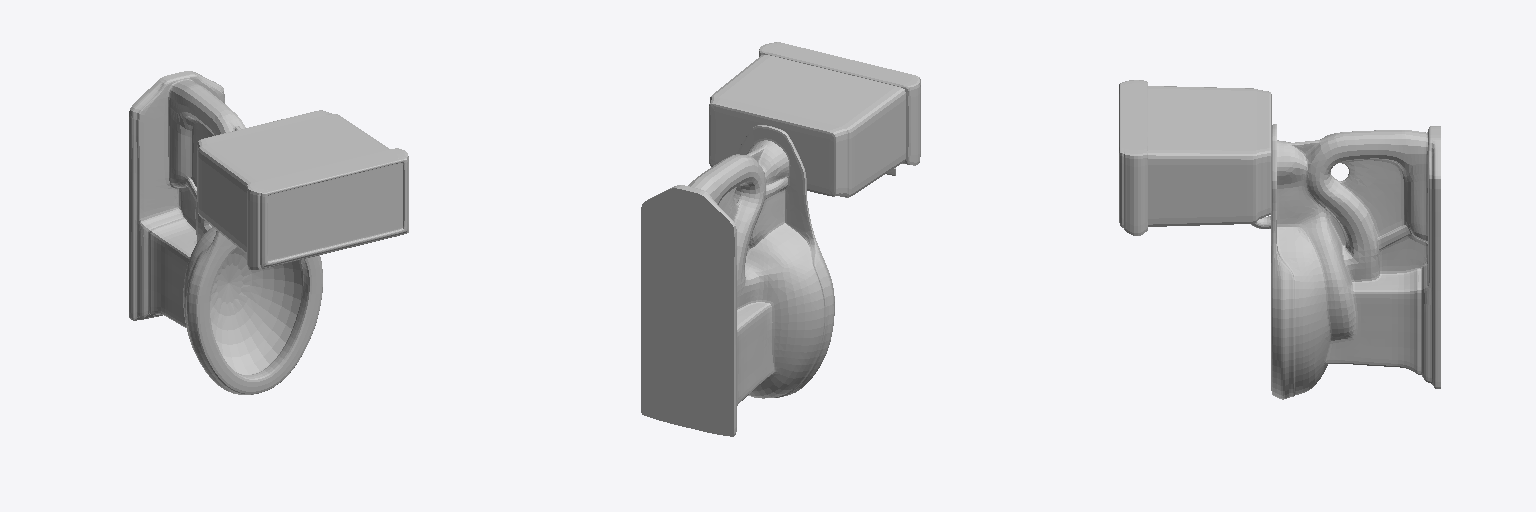
The model's file is Toilet_ornament.obj.
3 renders of one model, left to right at view 1: azimuth 30°, elevation 25°; view 2: azimuth 150°, elevation 25°; view 3: azimuth 270°, elevation 25°, orthographic.
Parts seen in each view (by area): view 1: <STL_BINARY>; view 2: <STL_BINARY>; view 3: <STL_BINARY>.
Boxes of the visible parts, box(x1,y1,x2,y2) form: <STL_BINARY>: box(129, 71, 408, 394); <STL_BINARY>: box(641, 42, 920, 436); <STL_BINARY>: box(1119, 80, 1440, 399).
Size of the model in its own units: 17.84 by 29.97 by 31.44.